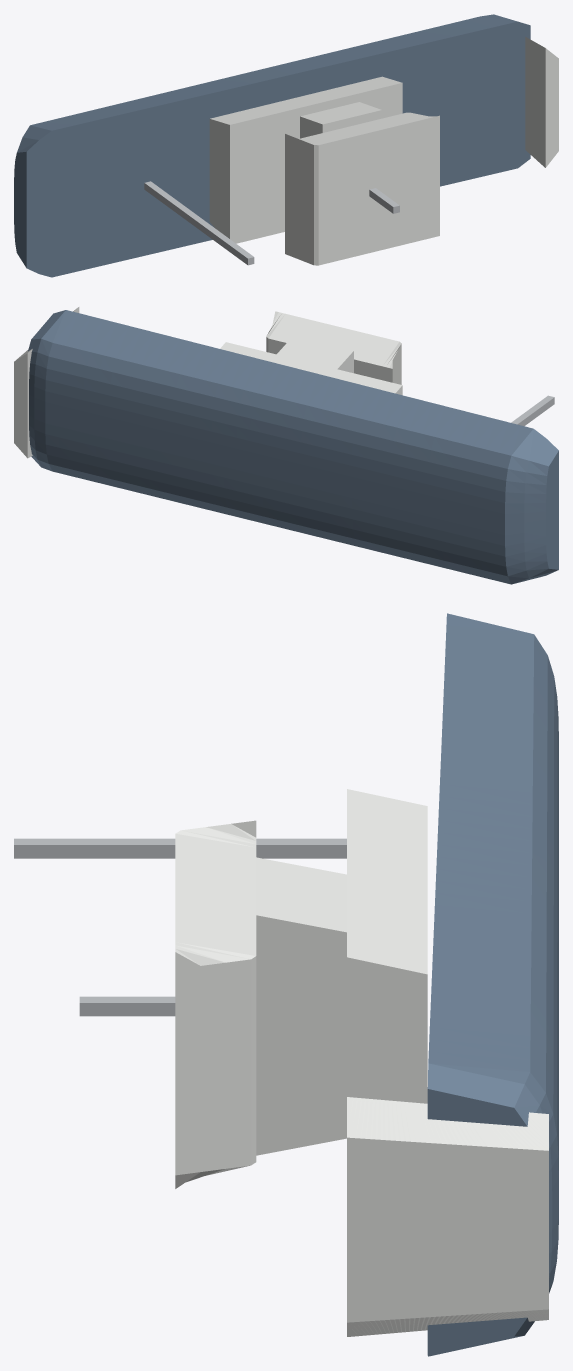
Rendered from pusher-loft.glb.
The picture shows the model from 3 angles, top to bottom: view 1: azimuth 30°, elevation 25°; view 2: azimuth 150°, elevation 25°; view 3: azimuth 270°, elevation 25°; orthographic projection. The views are drawn at different scales.
Visible parts, largest first — view 1: pusher; view 2: pusher; view 3: pusher.
Boxes of the visible parts, x1,y1,x2,y2 form: pusher: (14, 14, 558, 277); pusher: (14, 307, 558, 584); pusher: (14, 613, 558, 1356).
Bounding box in the file's own units: 1.88 × 0.52 × 0.8757.
